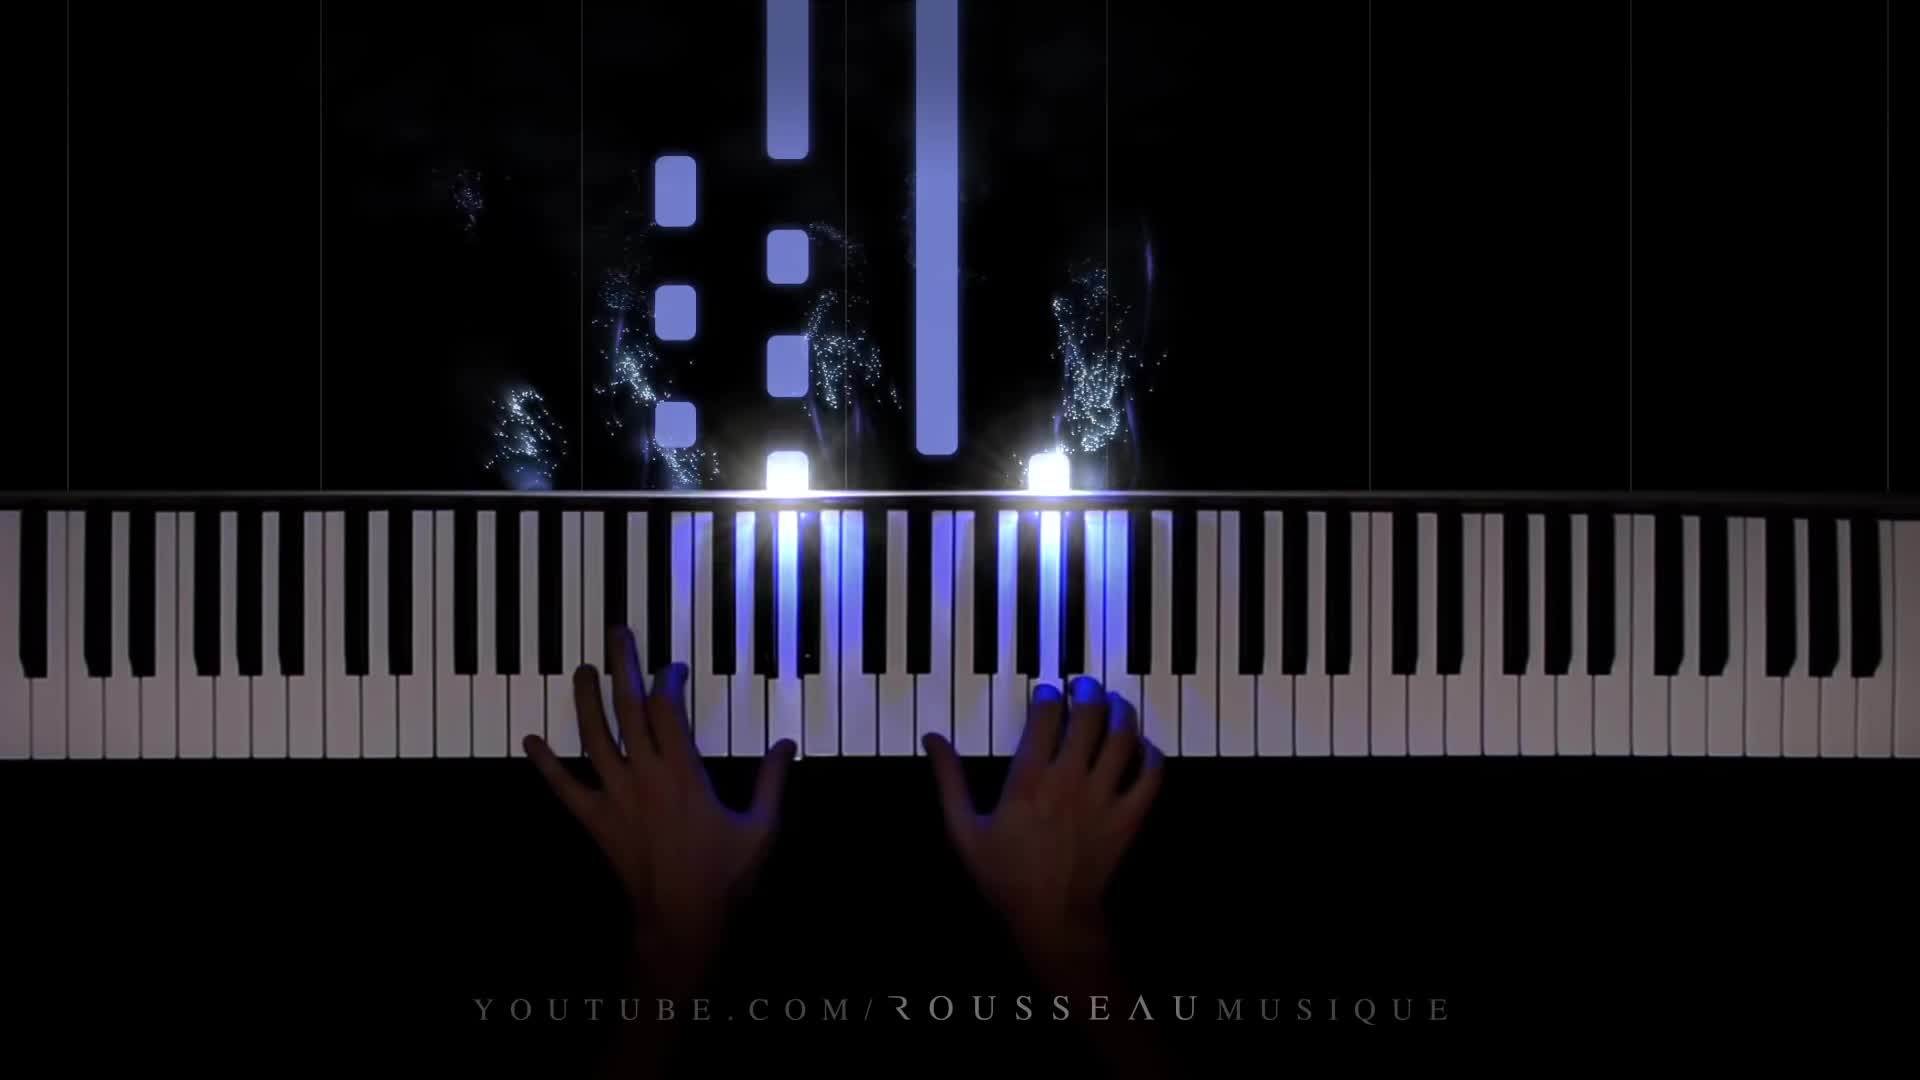left: (522, 626, 796, 913)
right: (923, 676, 1164, 905)
